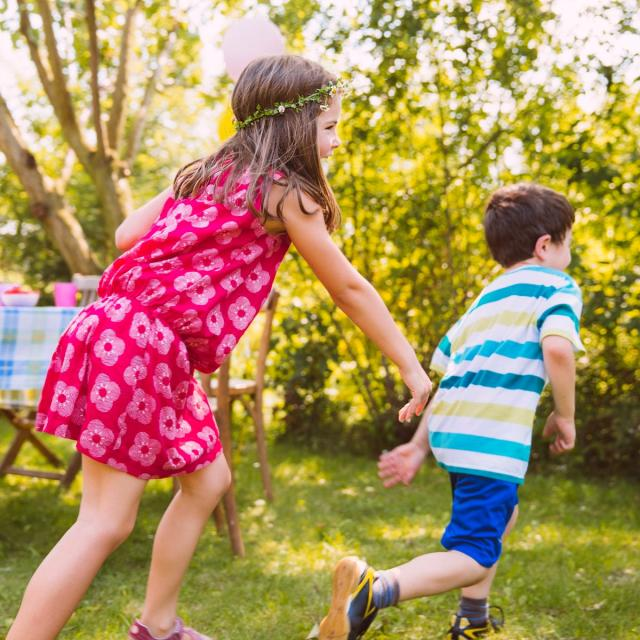child: (4, 52, 438, 640), (316, 180, 584, 640)
